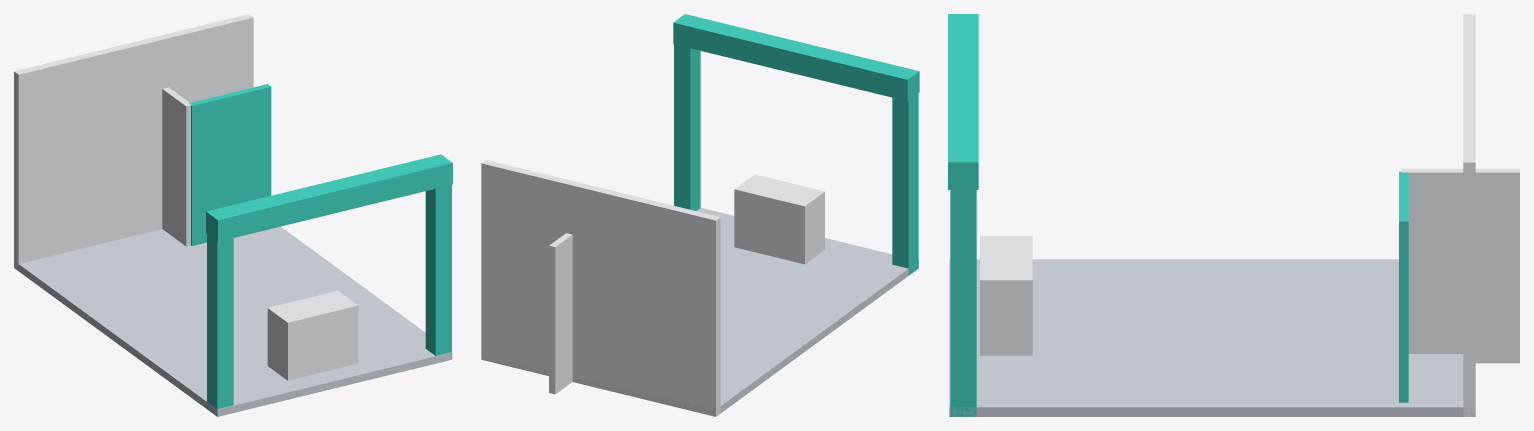
3 renders of one model, left to right at view 1: azimuth 30°, elevation 25°; view 2: azimuth 150°, elevation 25°; view 3: azimuth 270°, elevation 25°, orthographic. The views are drawn at different scales.
Visible parts, largest first — view 1: Exhibition Booth Concept; view 2: Exhibition Booth Concept; view 3: Exhibition Booth Concept.
Part boxes in pixels (x1=…): Exhibition Booth Concept: x1=14, y1=14, x2=452, y2=416; Exhibition Booth Concept: x1=481, y1=14, x2=919, y2=416; Exhibition Booth Concept: x1=948, y1=14, x2=1519, y2=416.
Size of the model in its own units: 4 by 3.2 by 6.52.
